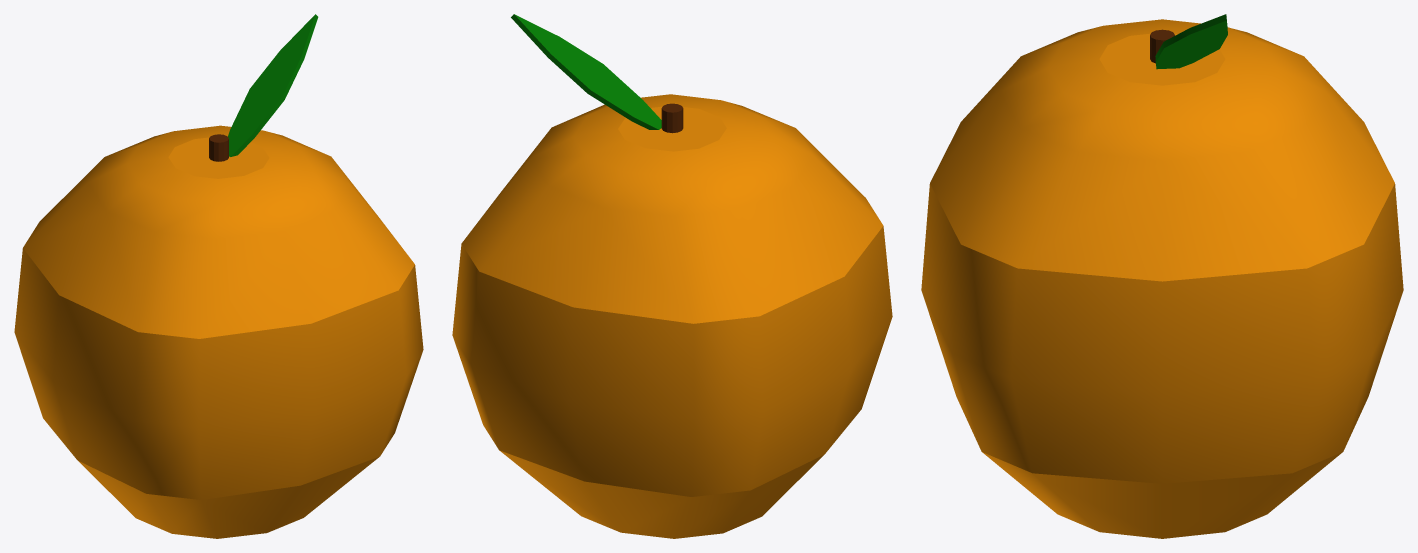
Rendered from Orange.fbx.
3 renders of one model, left to right at view 1: azimuth 30°, elevation 25°; view 2: azimuth 150°, elevation 25°; view 3: azimuth 270°, elevation 25°, orthographic. The views are drawn at different scales.
Visible parts, largest first — view 1: pCube6; view 2: pCube6; view 3: pCube6.
Boxes of the visible parts, x1,y1,x2,y2 form: pCube6: (14,14,423,538); pCube6: (452,14,892,538); pCube6: (921,14,1403,538).
Size of the model in its own units: 0.2889 by 0.3628 by 0.2889.
